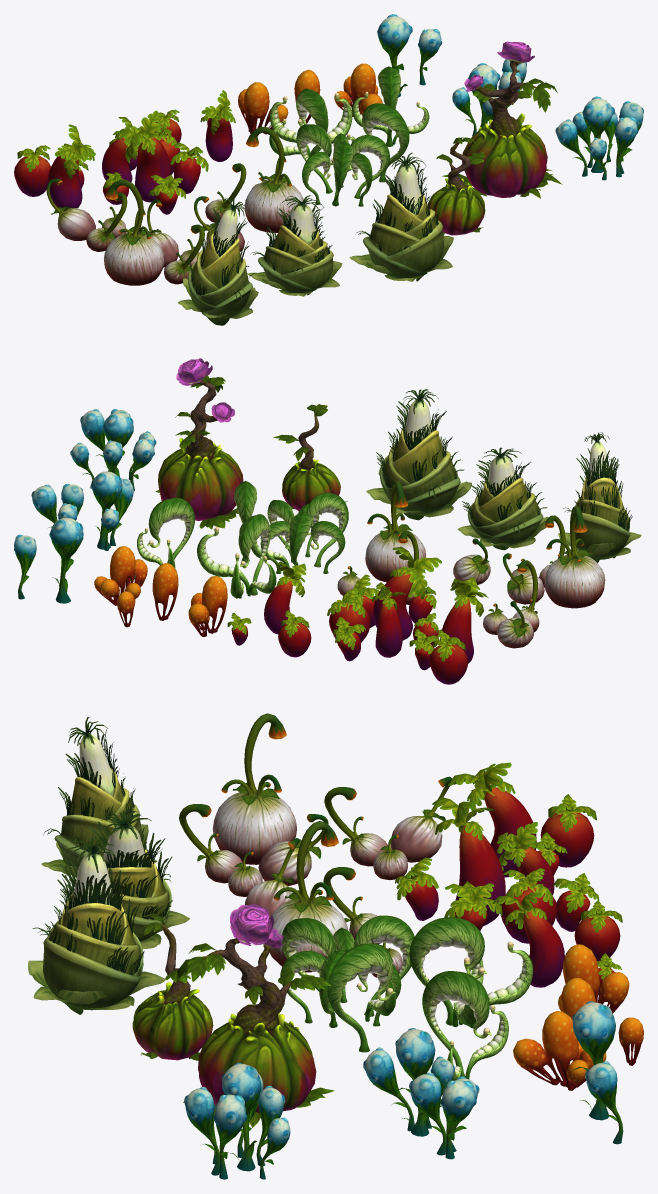
The model's file is plants.glb.
3 views of the same model, one above another, from view 1: azimuth 30°, elevation 25°; view 2: azimuth 150°, elevation 25°; view 3: azimuth 270°, elevation 25° (orthographic). The views are drawn at different scales.
Visible parts, largest first — view 1: PlantFruit1_1_12, PlantFruit10_1_11, PlantFruit4_5_18, PlantFruit10_3_2, PlantFruit10_2_27, PlantFruit3_5_20, PlantFruit9_3_21, PlantFruit8_5_17, PlantFruit4_4_4, PlantFruit1_3_8, PlantFruit3_1_19, PlantFruit9_4_7 (+13 smaller); view 2: PlantFruit1_1_12, PlantFruit4_5_18, PlantFruit10_1_11, PlantFruit10_2_27, PlantFruit10_3_2, PlantFruit3_5_20, PlantFruit4_4_4, PlantFruit9_3_21, PlantFruit8_5_17, PlantFruit9_4_7, PlantFruit1_3_8, PlantFruit3_1_19 (+13 smaller); view 3: PlantFruit1_1_12, PlantFruit10_1_11, PlantFruit4_5_18, PlantFruit3_5_20, PlantFruit8_5_17, PlantFruit10_3_2, PlantFruit4_4_4, PlantFruit10_2_27, PlantFruit9_3_21, PlantFruit1_3_8, PlantFruit3_6_3, PlantFruit9_4_7 (+15 smaller).
Part boxes in pixels (x1,y1,x2,y2): PlantFruit1_1_12: [442, 41, 562, 198]; PlantFruit10_1_11: [349, 152, 453, 281]; PlantFruit4_5_18: [102, 110, 208, 214]; PlantFruit10_3_2: [177, 198, 258, 325]; PlantFruit10_2_27: [247, 195, 342, 296]; PlantFruit3_5_20: [104, 179, 204, 285]; PlantFruit9_3_21: [296, 124, 389, 206]; PlantFruit8_5_17: [555, 96, 643, 180]; PlantFruit4_4_4: [14, 124, 95, 210]; PlantFruit1_3_8: [428, 137, 485, 235]; PlantFruit3_1_19: [244, 126, 303, 232]; PlantFruit9_4_7: [269, 88, 352, 156]; PlantFruit1_1_12: [155, 358, 243, 529]; PlantFruit4_5_18: [327, 546, 441, 661]; PlantFruit10_1_11: [366, 389, 471, 520]; PlantFruit10_2_27: [457, 447, 548, 550]; PlantFruit10_3_2: [558, 432, 641, 562]; PlantFruit3_5_20: [503, 506, 605, 608]; PlantFruit4_4_4: [409, 576, 488, 684]; PlantFruit9_3_21: [260, 493, 348, 573]; PlantFruit8_5_17: [70, 409, 156, 490]; PlantFruit9_4_7: [197, 514, 276, 598]; PlantFruit1_3_8: [273, 404, 347, 514]; PlantFruit3_1_19: [365, 480, 425, 582]; PlantFruit1_1_12: [177, 904, 334, 1127]; PlantFruit10_1_11: [28, 838, 165, 1014]; PlantFruit4_5_18: [395, 797, 599, 943]; PlantFruit3_5_20: [179, 713, 328, 896]; PlantFruit8_5_17: [184, 1063, 290, 1179]; PlantFruit10_3_2: [41, 717, 157, 877]; PlantFruit4_4_4: [448, 762, 596, 877]; PlantFruit10_2_27: [66, 810, 189, 948]; PlantFruit9_3_21: [280, 915, 414, 1027]; PlantFruit1_3_8: [132, 913, 213, 1060]; PlantFruit3_6_3: [324, 776, 452, 879]; PlantFruit9_4_7: [409, 917, 533, 1028].
Size of the model in its own units: 5.42 by 1.55 by 4.06.
Materials: 4 (4 with a texture image).
